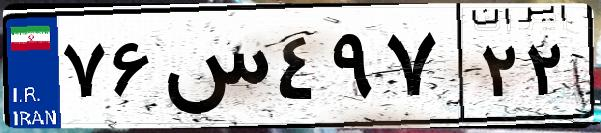2: (475, 38, 525, 113), (525, 38, 570, 115)
4: (270, 28, 330, 110)
6: (110, 28, 158, 98)
7: (385, 28, 445, 110), (57, 26, 110, 100)
9: (330, 28, 385, 110)
س: (158, 20, 270, 120)
